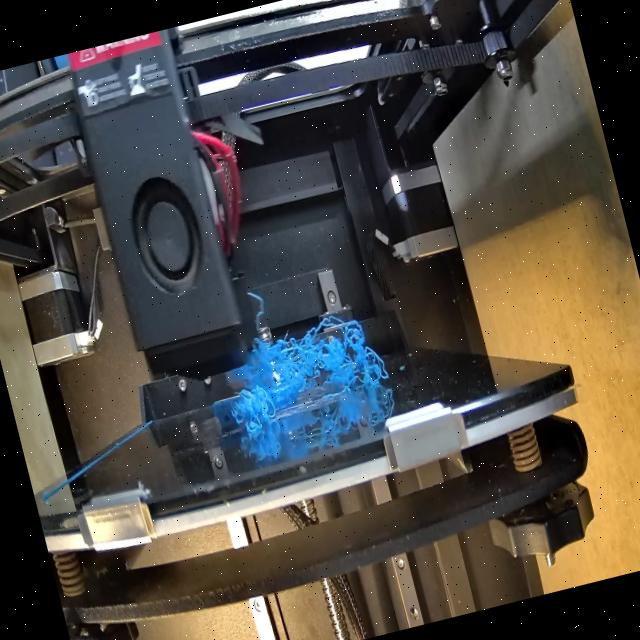spaghetti: (226, 326, 384, 428)
